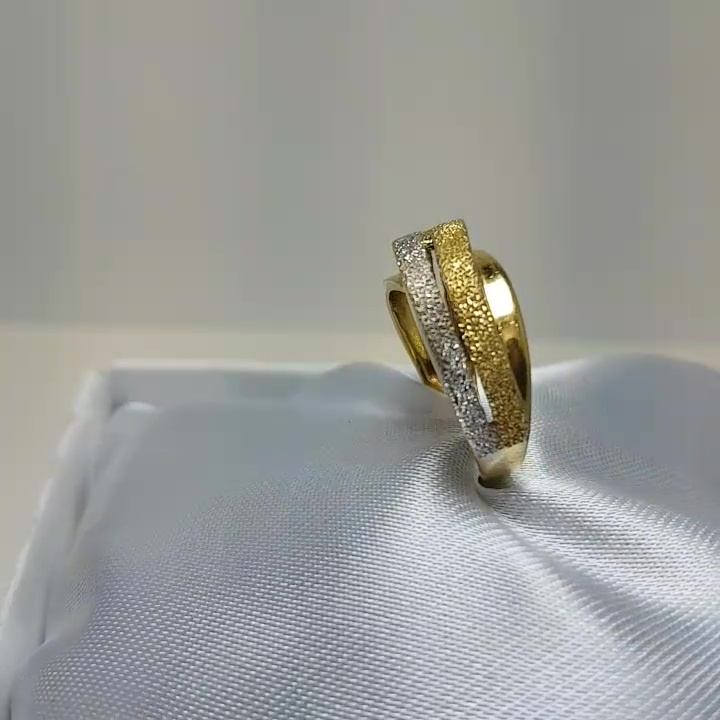Ring 5: (355, 207, 585, 530)
